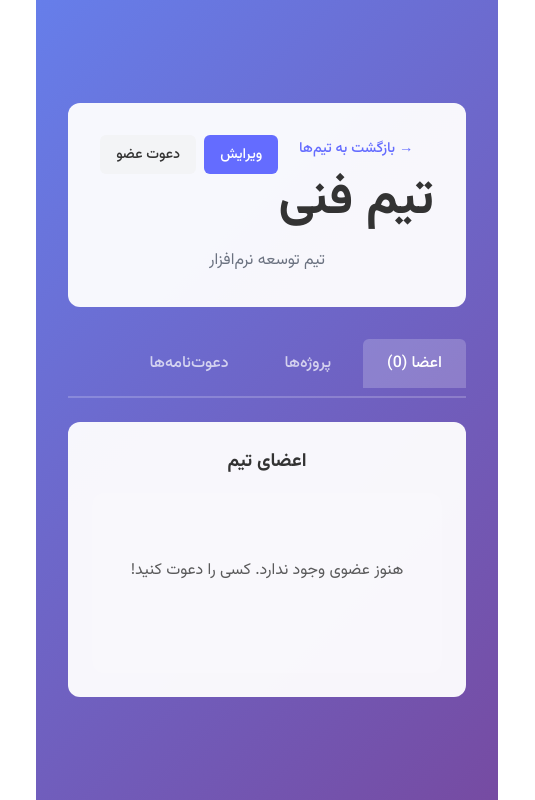
it: TeamDetail › Tabs navigation › switches to projects tab when clicked
This screenshot has width=535, height=800.
Check: the heading "تیم فنی" is shown, box [278,170,434,231]
Click the button "پروژه‌ها".
click(308, 363)  # box [260,338,355,388]
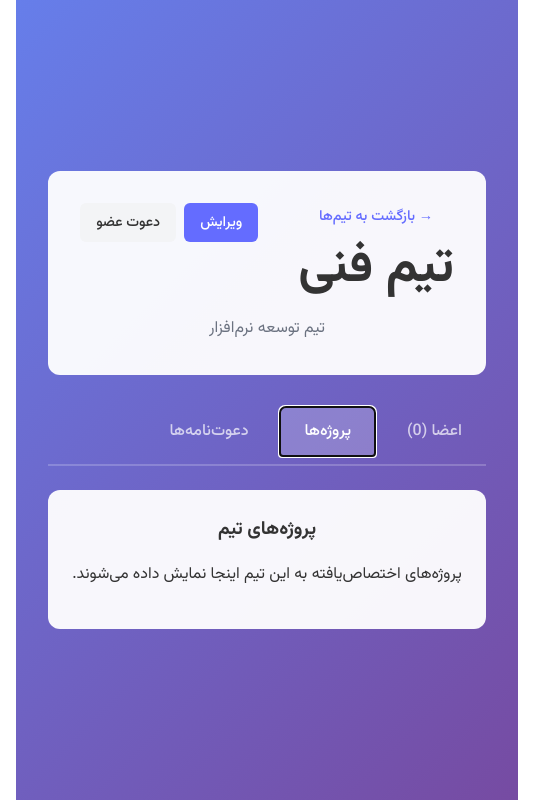
Check: the text "پروژه‌های اختصاص‌یافته به این تیم اینجا نمایش داده می‌شوند." is shown, box [72,561,462,589]
